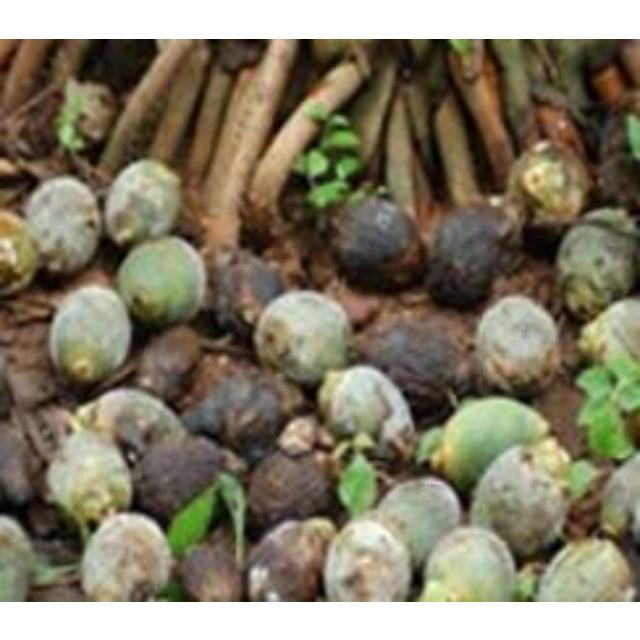damaged: (470, 443, 572, 557), (432, 396, 550, 492), (424, 202, 524, 308), (327, 190, 427, 292), (44, 427, 132, 539), (470, 294, 562, 396), (318, 365, 417, 459), (554, 210, 640, 318), (115, 236, 208, 330), (80, 511, 176, 602), (504, 140, 592, 238), (48, 285, 132, 387), (370, 476, 460, 568), (23, 176, 103, 276), (205, 245, 288, 341), (416, 525, 518, 601), (260, 290, 348, 378), (323, 517, 415, 601), (244, 516, 336, 600), (79, 387, 187, 457), (104, 160, 182, 246), (534, 536, 634, 602), (576, 297, 640, 375)
